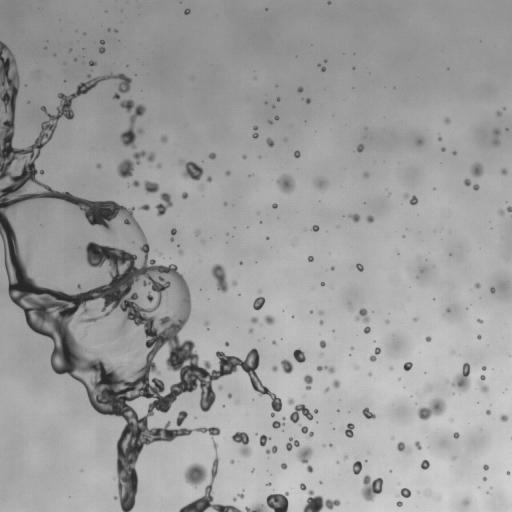droplet: (179, 455, 242, 511), (303, 490, 340, 511), (417, 398, 446, 420), (361, 475, 383, 501), (184, 463, 207, 487), (451, 363, 470, 392), (179, 159, 203, 180), (231, 432, 251, 457), (289, 404, 313, 423), (156, 192, 172, 216), (276, 174, 295, 193), (117, 159, 133, 178), (297, 446, 312, 463), (355, 308, 369, 323), (144, 180, 159, 193), (286, 437, 299, 450), (471, 163, 483, 177), (253, 296, 265, 310), (293, 348, 305, 362), (281, 359, 293, 373), (304, 374, 313, 390), (301, 426, 313, 438), (314, 178, 327, 189), (362, 407, 375, 418), (404, 195, 418, 205), (397, 442, 410, 452), (352, 461, 362, 474), (345, 423, 354, 437), (259, 435, 269, 446), (399, 488, 410, 497), (265, 445, 277, 453), (264, 315, 274, 324), (272, 421, 284, 428), (403, 362, 412, 371), (349, 214, 359, 222), (421, 459, 429, 469), (332, 379, 340, 388), (366, 215, 374, 223), (266, 138, 273, 147), (139, 204, 149, 210), (356, 144, 363, 152), (356, 263, 363, 271), (319, 340, 326, 348), (500, 414, 508, 421), (414, 441, 421, 449), (416, 138, 423, 145), (464, 179, 471, 186), (181, 192, 188, 199), (251, 316, 258, 323), (363, 326, 370, 333), (287, 398, 294, 405), (306, 465, 313, 472), (294, 150, 300, 158), (311, 225, 319, 231), (89, 60, 96, 66), (160, 136, 167, 142), (208, 153, 215, 159), (133, 180, 139, 187), (300, 483, 306, 490), (501, 168, 507, 174), (473, 184, 479, 190), (133, 352, 139, 358), (453, 432, 459, 438), (281, 463, 287, 469), (237, 493, 244, 498), (184, 9, 190, 14), (297, 87, 303, 92), (113, 93, 119, 98), (474, 283, 480, 288), (490, 287, 495, 293), (425, 336, 431, 341), (483, 464, 488, 470), (396, 501, 402, 506), (507, 206, 511, 213), (496, 111, 501, 116), (445, 118, 450, 123), (225, 170, 230, 175), (363, 172, 368, 177), (272, 203, 277, 208), (499, 210, 504, 215), (308, 256, 313, 261), (477, 318, 482, 323), (272, 366, 277, 371), (463, 499, 468, 504), (306, 98, 310, 103), (157, 163, 161, 168), (96, 164, 101, 168), (207, 176, 211, 181), (232, 281, 237, 285), (318, 311, 323, 315), (249, 328, 253, 333), (477, 334, 481, 339), (324, 387, 328, 392), (486, 409, 490, 414), (321, 67, 325, 71), (268, 120, 272, 124), (441, 147, 445, 151), (40, 170, 44, 174), (195, 231, 199, 235), (179, 250, 183, 254), (413, 317, 417, 321), (319, 320, 323, 324), (225, 342, 229, 346), (482, 366, 486, 370), (314, 409, 318, 413), (230, 459, 234, 463), (438, 136, 441, 140), (331, 266, 334, 270), (272, 341, 276, 344), (218, 386, 222, 389), (228, 393, 231, 397), (482, 477, 486, 480), (275, 116, 278, 119), (453, 151, 456, 154), (243, 155, 246, 158), (321, 282, 324, 285), (386, 320, 389, 323), (205, 322, 208, 325), (233, 497, 236, 500), (389, 367, 393, 369), (507, 471, 509, 475), (328, 1, 330, 4), (446, 309, 449, 311), (310, 310, 312, 313), (368, 373, 371, 375), (329, 444, 332, 446), (344, 456, 347, 458), (453, 456, 455, 459), (319, 481, 322, 483), (267, 483, 270, 485), (277, 98, 279, 100), (159, 253, 161, 255), (350, 347, 352, 349), (355, 366, 357, 368), (283, 417, 285, 419)
ligament: (0, 41, 282, 511), (120, 99, 145, 148), (244, 493, 288, 511), (211, 264, 228, 292), (133, 150, 155, 163), (478, 375, 488, 392), (369, 347, 380, 361), (316, 366, 335, 373), (493, 128, 500, 145), (99, 40, 105, 53), (170, 228, 176, 241), (252, 126, 258, 138)
